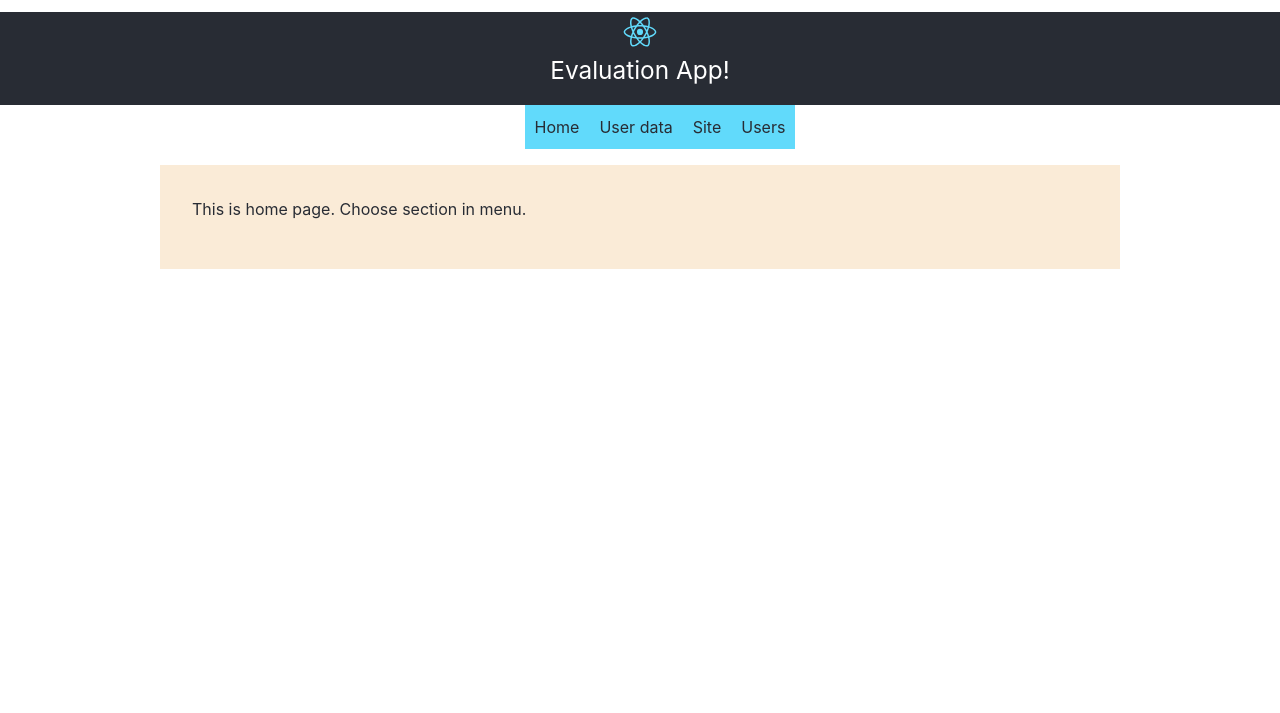
Main app › App navigating
What coordinates should you click on to do the following:
click the link "User data"
I would click on:
 (636, 127)
Its box is [599,117,673,137].
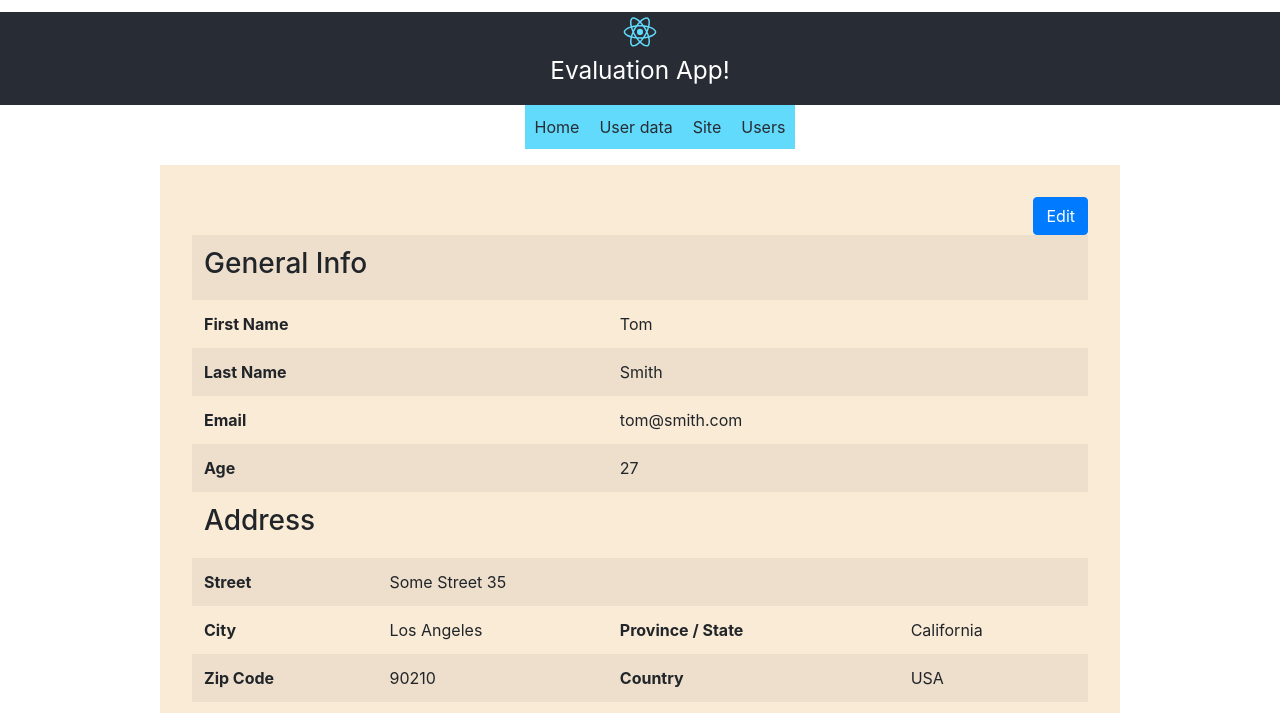
Now the heading "General Info" is shown, box [204,246,367,280]
